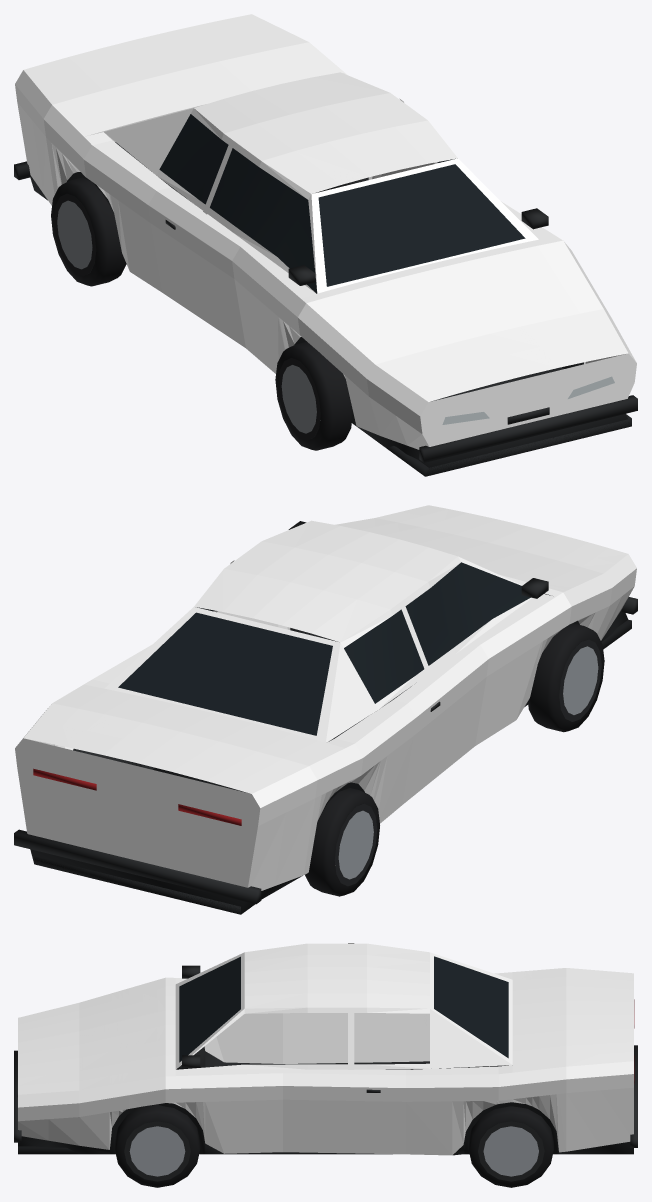
File: hozuki_moncao.glb
The picture shows the model from 3 angles, top to bottom: view 1: azimuth 30°, elevation 25°; view 2: azimuth 150°, elevation 25°; view 3: azimuth 270°, elevation 25°; orthographic projection. The views are drawn at different scales.
Parts seen in each view (by area): view 1: Body_Paint, Body_Details, Mount_FrontLeft_Wheel_Details, Mount_RearLeft_Wheel_Details; view 2: Body_Paint, Body_Details, Mount_FrontLeft_Wheel_Details, Mount_RearLeft_Wheel_Details; view 3: Body_Paint, Body_Details, Mount_FrontRight_Wheel_Details, Mount_RearRight_Wheel_Details.
Part boxes in pixels (bbox=[...]): Body_Paint: bbox=[15, 14, 636, 449]; Body_Details: bbox=[14, 114, 637, 476]; Mount_FrontLeft_Wheel_Details: bbox=[275, 342, 352, 450]; Mount_RearLeft_Wheel_Details: bbox=[51, 177, 126, 286]; Body_Paint: bbox=[15, 505, 636, 890]; Body_Details: bbox=[14, 521, 637, 914]; Mount_FrontLeft_Wheel_Details: bbox=[528, 623, 604, 732]; Mount_RearLeft_Wheel_Details: bbox=[305, 788, 379, 896]; Body_Paint: bbox=[18, 943, 633, 1155]; Body_Details: bbox=[14, 956, 637, 1155]; Mount_FrontRight_Wheel_Details: bbox=[114, 1105, 200, 1187]; Mount_RearRight_Wheel_Details: bbox=[468, 1106, 553, 1187].
Size of the model in its own units: 1.82 by 1.28 by 4.45.
Materials: 2 (1 with a texture image).
